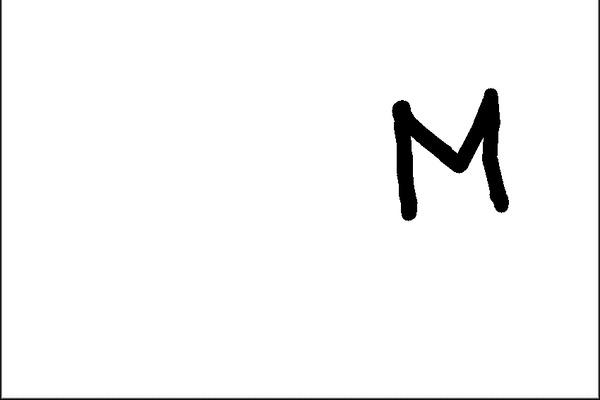M: (387, 86, 515, 218)
